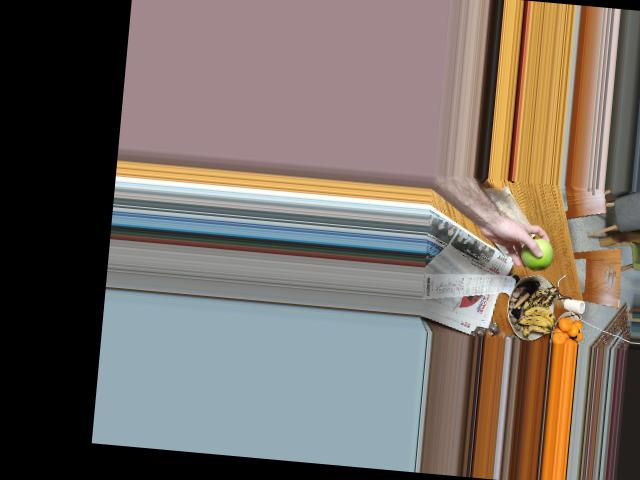apple: (517, 237, 558, 272)
